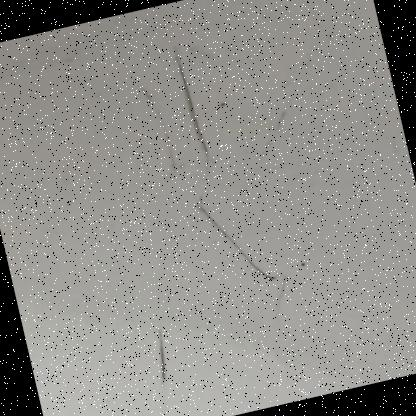Crack: (160, 167, 323, 339), (106, 24, 252, 189), (132, 312, 198, 396), (401, 266, 415, 308)
